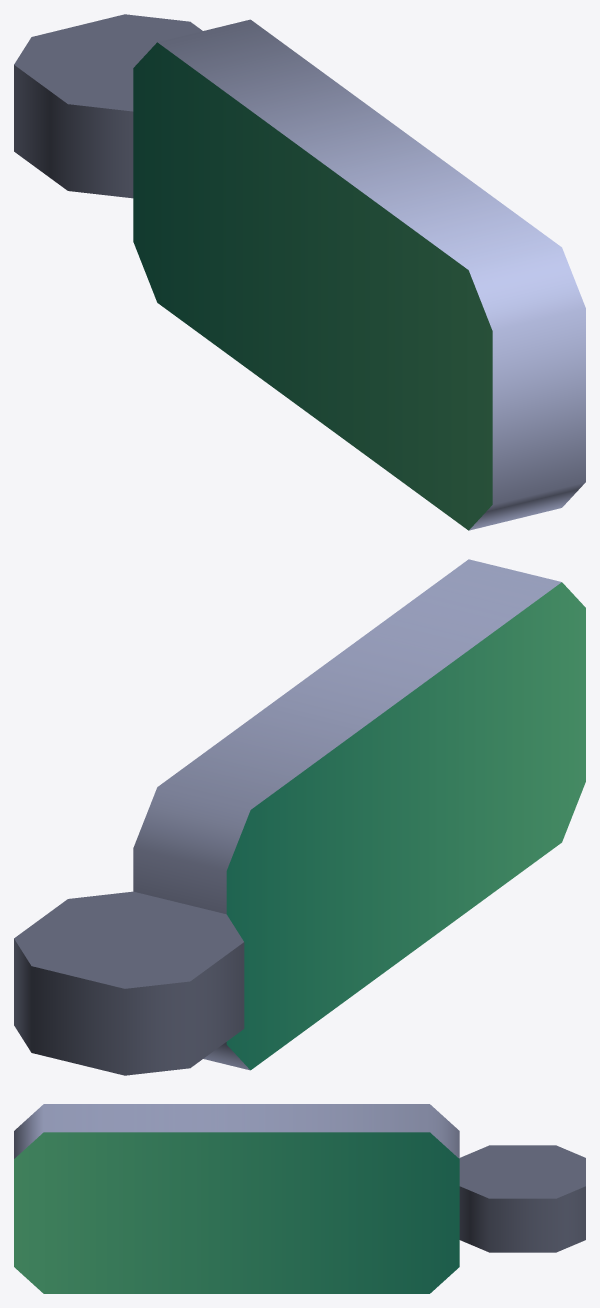
Rendered from road-sign-object-street.glb.
3 renders of one model, top to bottom at view 1: azimuth 30°, elevation 25°; view 2: azimuth 150°, elevation 25°; view 3: azimuth 270°, elevation 25°, orthographic. The views are drawn at different scales.
Visible parts, largest first — view 1: road-sign-object-street; view 2: road-sign-object-street; view 3: road-sign-object-street.
Part boxes in pixels (x1,y1,x2,y2): road-sign-object-street: (14, 14, 585, 530); road-sign-object-street: (14, 559, 585, 1075); road-sign-object-street: (14, 1104, 585, 1293).
Bounding box in the file's own units: 0.0425 × 0.06 × 0.1925.
1 material, 1 textured.
